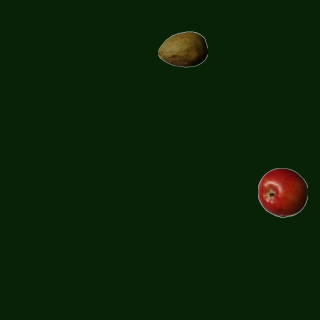Apple Braeburn: (257, 167, 307, 217)
Papaya: (157, 24, 207, 74)
